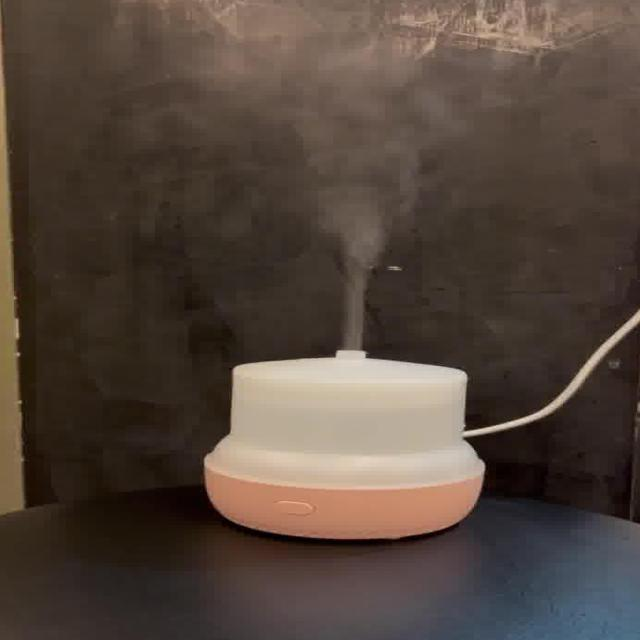fire: (293, 115, 445, 350)
